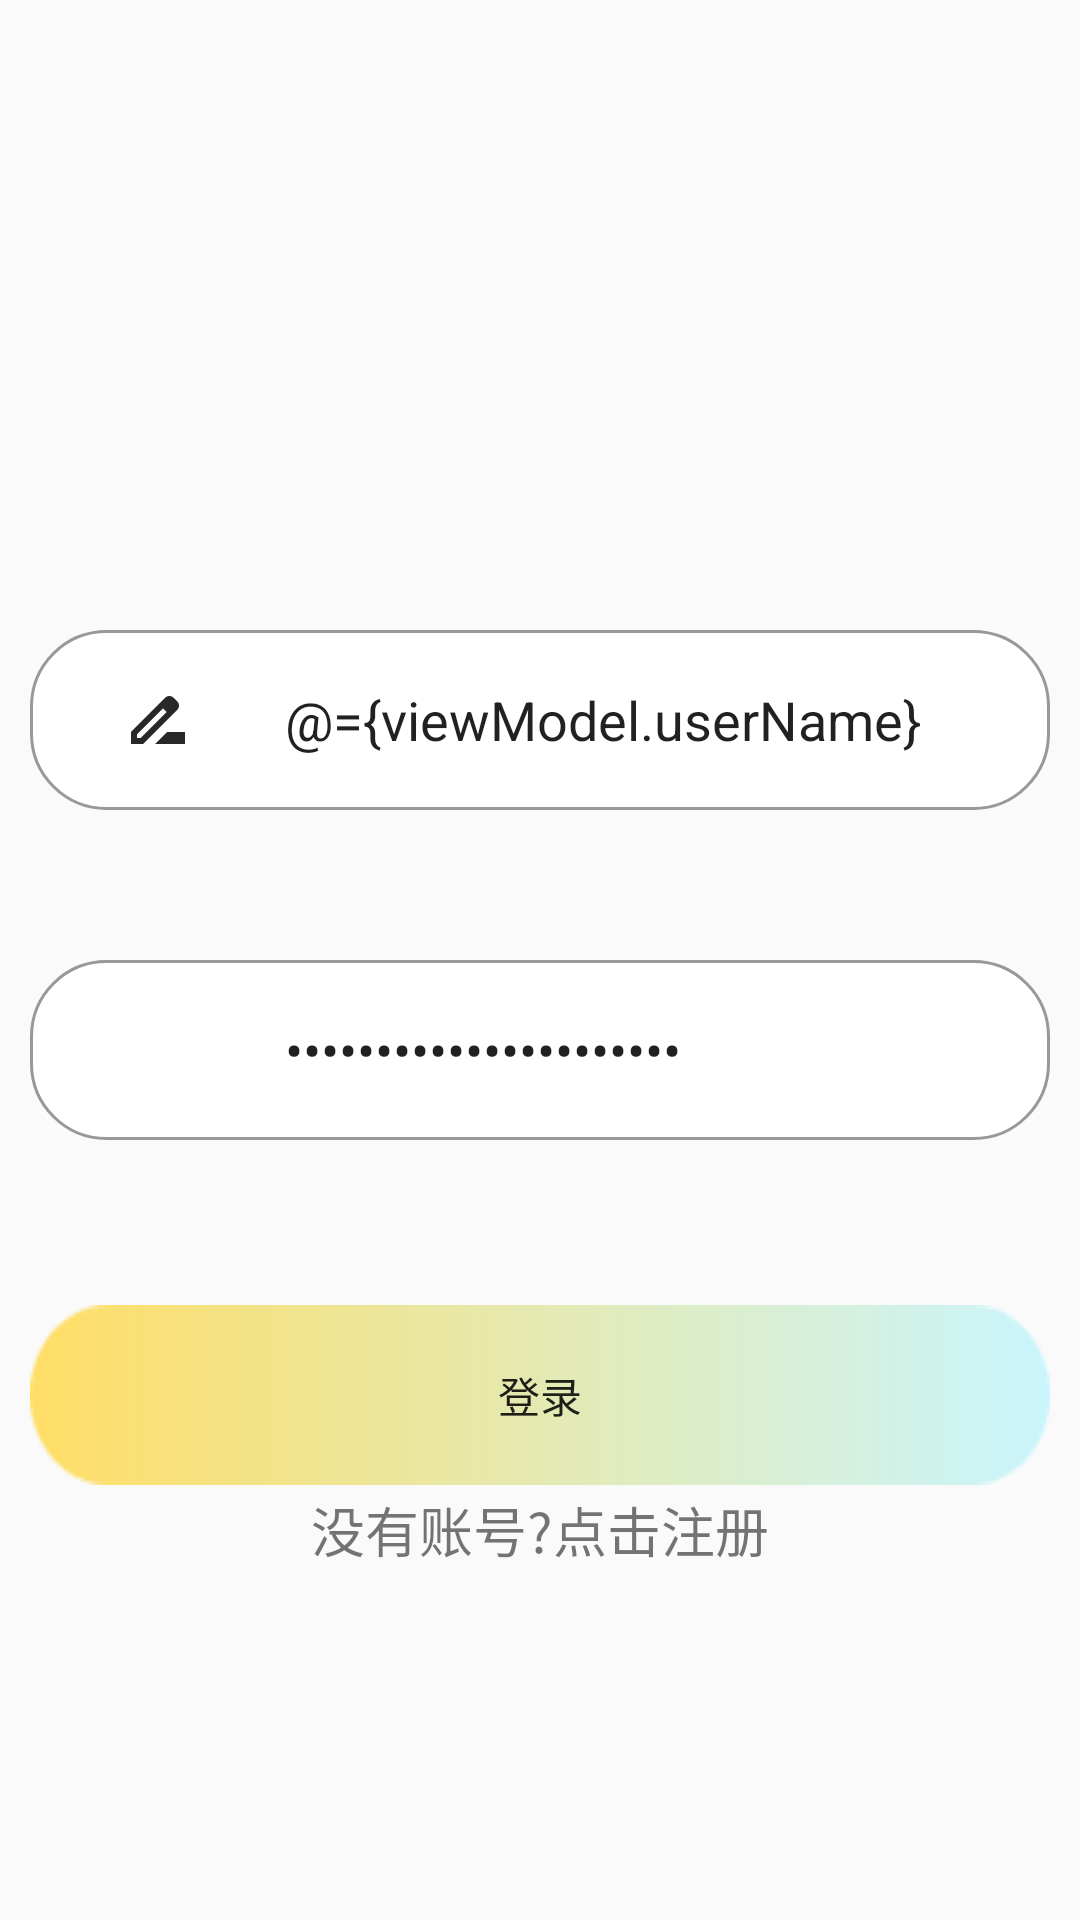

Icons on this 1080px x 1920px Android screen, each with the point to tap as (x,y):
drive file rename: (157,720)
